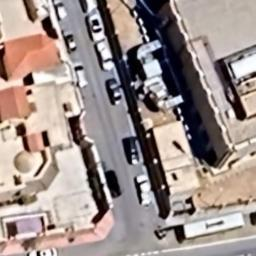pickup: (131, 172, 156, 210), (92, 42, 118, 72)
sedan: (103, 77, 127, 109), (83, 14, 108, 42), (60, 29, 82, 56), (50, 0, 70, 22), (25, 245, 60, 256)
unknown: (120, 134, 145, 168)
van: (70, 62, 90, 90)
